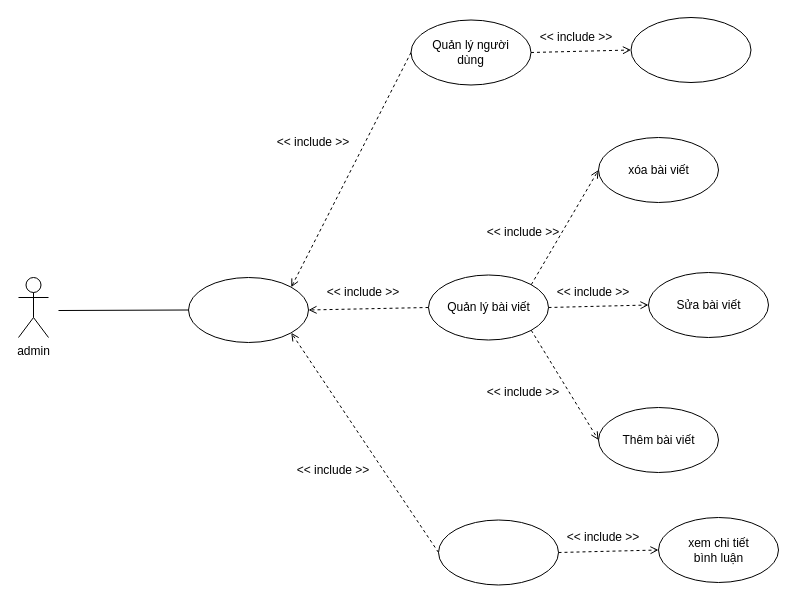
Some shapes in this 796 by 603 pixel diagram are drawn without their labels. Here are the shapes that lost their labels. From the top down, the centre of each, then its label:
pixel 690 49: xem chi tiết người dùng
pixel 248 309: Đăng nhập
pixel 498 552: Quản lý bình luận
